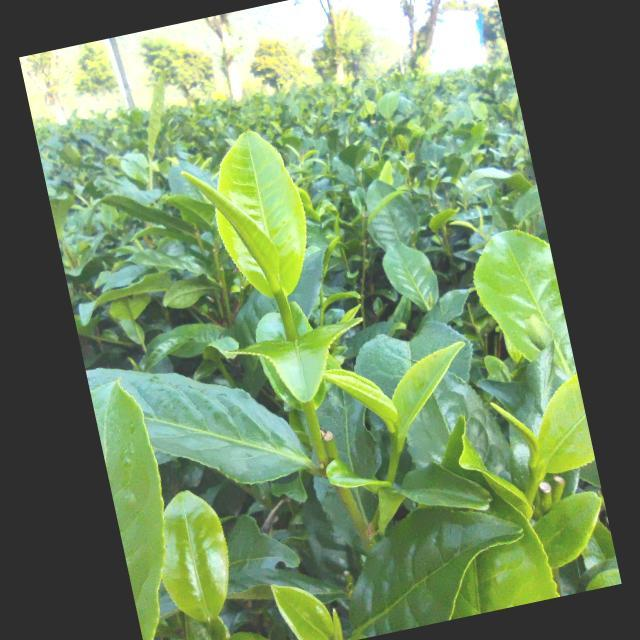Stem: (527, 474, 543, 490), (274, 290, 286, 304), (389, 450, 401, 463)
